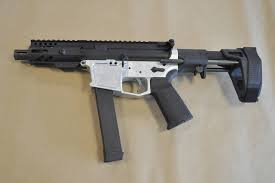gun: (13, 38, 263, 132)
